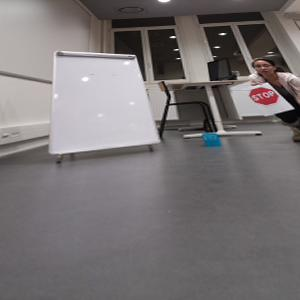stop: (249, 86, 278, 106)
